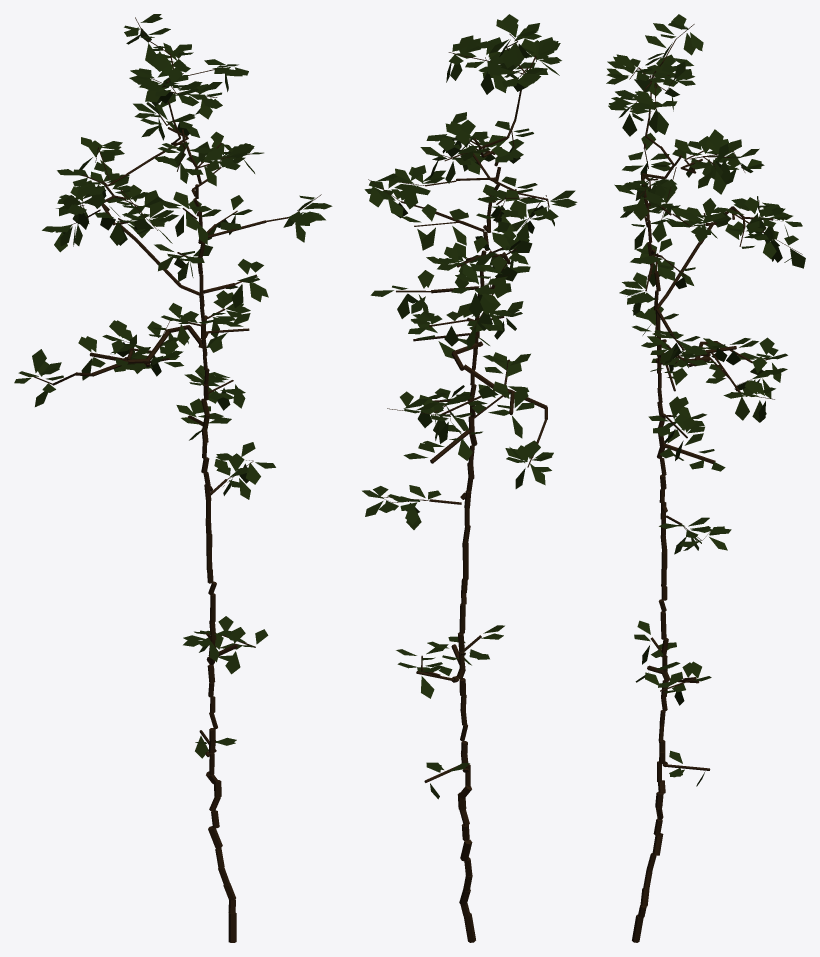
File: 2022_tree_408.obj
3 views of the same model, side by side, from view 1: azimuth 30°, elevation 25°; view 2: azimuth 150°, elevation 25°; view 3: azimuth 270°, elevation 25° (orthographic). The views are drawn at different scales.
Visible parts, largest first — view 1: Leaves, TrunkAndBranches; view 2: Leaves, TrunkAndBranches; view 3: Leaves, TrunkAndBranches.
Part boxes in pixels (x1,y1,x2,y2): Leaves: (14,14,332,758); TrunkAndBranches: (34,17,321,942); Leaves: (362,14,577,799); TrunkAndBranches: (368,33,549,942); Leaves: (606,14,805,786); TrunkAndBranches: (629,24,802,942).
Size of the model in its own units: 3.21 by 11.48 by 2.33.
